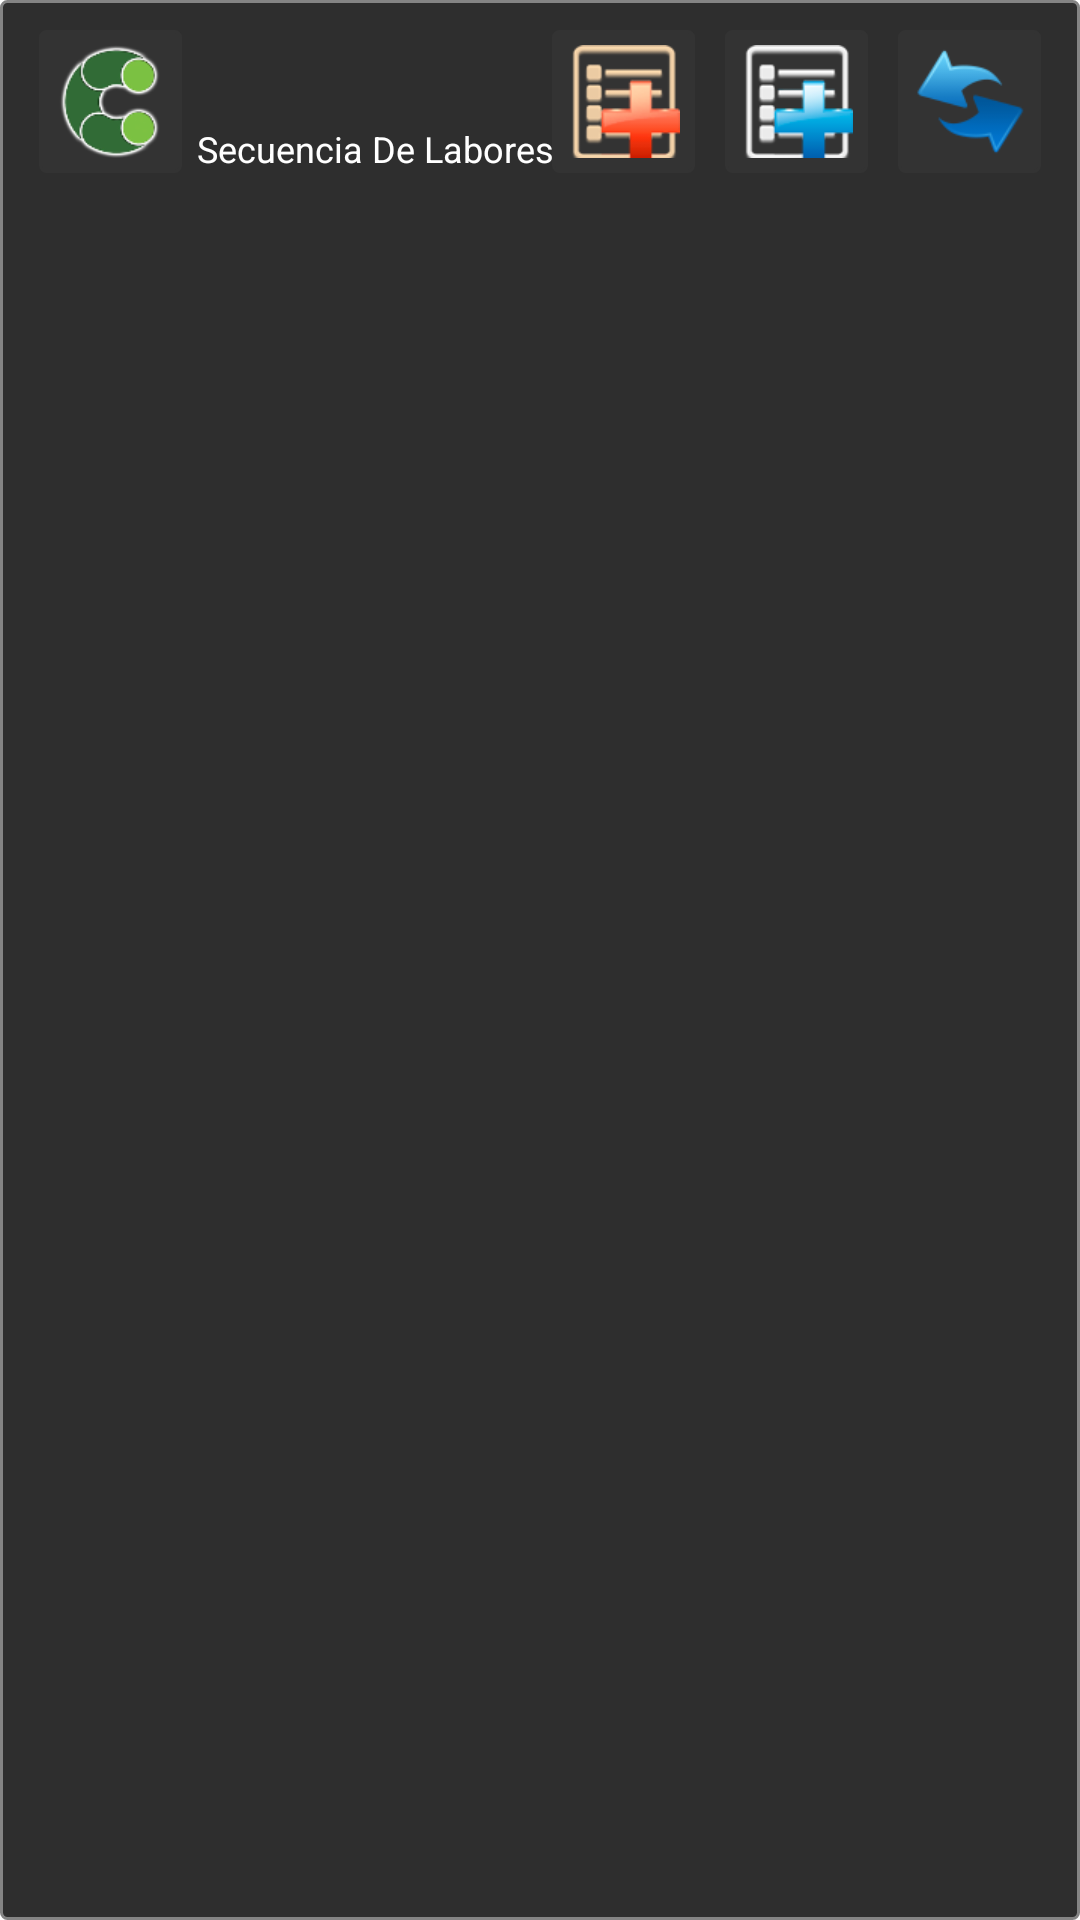

Icon bounding boxes for this 1080 x 1920 phone screenshot, format BBox(x1, y1, x2, y2):
listmas: BBox(746, 45, 853, 158)
sincro: BBox(917, 50, 1023, 153)
